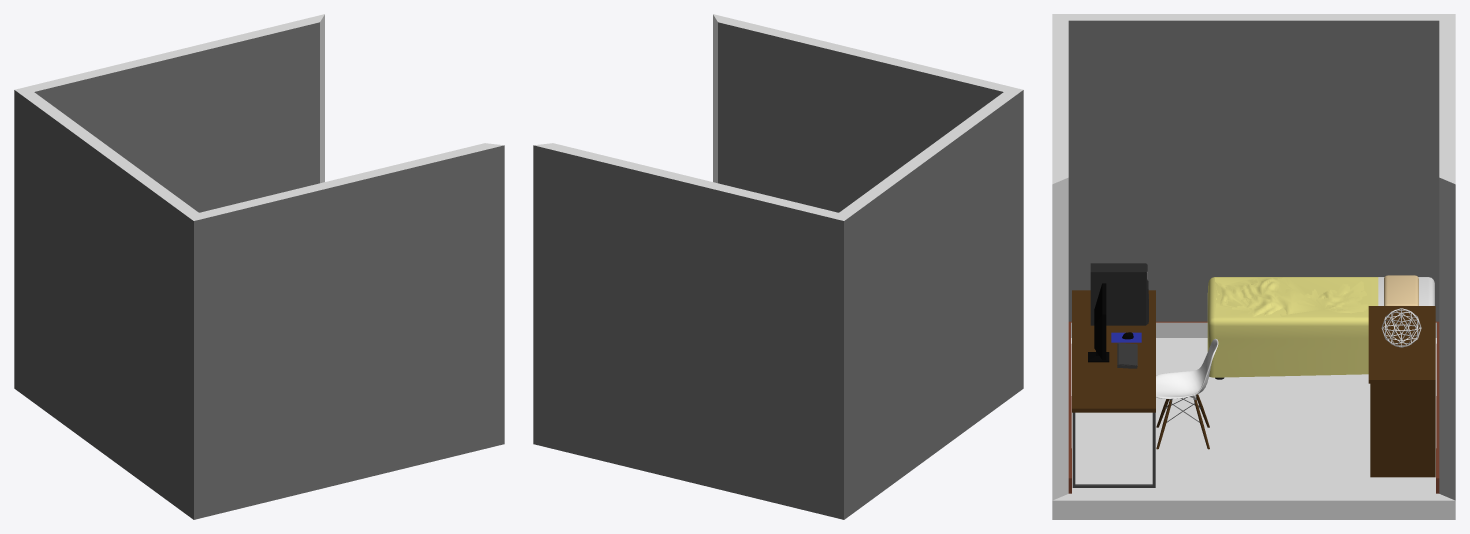
3 views of the same model, side by side, from view 1: azimuth 30°, elevation 25°; view 2: azimuth 150°, elevation 25°; view 3: azimuth 270°, elevation 25° (orthographic). The views are drawn at different scales.
Parts seen in each view (by area): view 1: Cube; view 2: Cube; view 3: Cube, Cube.001, Cube.005, Cube.003, uploads_files_45787_centralpc, 72VITRA_CLASSIC_D3_EPC_SEAT_001, Cube.002, Cube.007, Icosphere, Cube.008, Cube.009.
Part boxes in pixels (left/top/right/bottom): Cube: left=14, top=14, right=504, bottom=519; Cube: left=533, top=14, right=1023, bottom=519; Cube: left=1052, top=14, right=1455, bottom=519; Cube.001: left=1207, top=277, right=1434, bottom=377; Cube.005: left=1368, top=306, right=1435, bottom=477; Cube.003: left=1072, top=290, right=1155, bottom=412; uploads_files_45787_centralpc: left=1090, top=263, right=1148, bottom=325; 72VITRA_CLASSIC_D3_EPC_SEAT_001: left=1156, top=338, right=1218, bottom=449; Cube.002: left=1384, top=275, right=1418, bottom=305; Cube.007: left=1088, top=283, right=1109, bottom=362; Icosphere: left=1381, top=308, right=1421, bottom=347; Cube.008: left=1072, top=412, right=1155, bottom=487; Cube.009: left=1117, top=343, right=1137, bottom=368.
Bounding box in the file's own units: 200 × 184 × 200.
